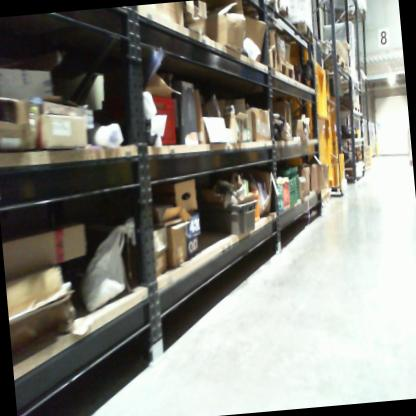pallet: (249, 0, 297, 26), (272, 53, 301, 90), (312, 49, 348, 74), (293, 13, 320, 41), (331, 99, 364, 117)
